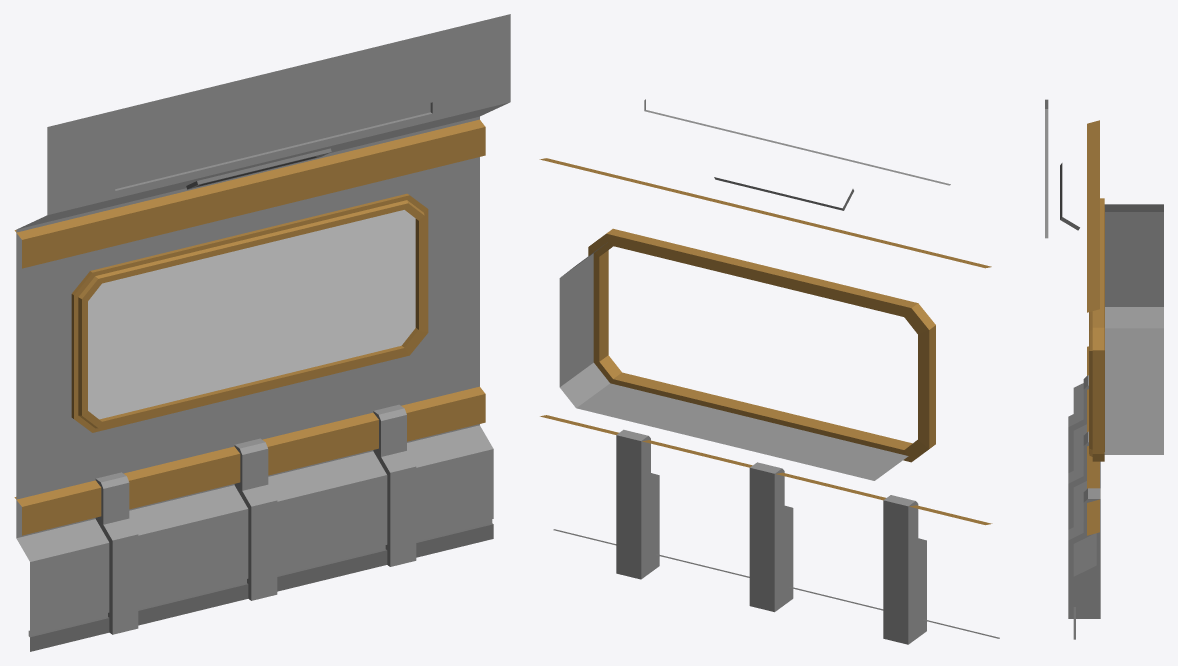
File: quaternius-modular-sci-fi-window-wall-side-a.glb
3 views of the same model, side by side, from view 1: azimuth 30°, elevation 25°; view 2: azimuth 150°, elevation 25°; view 3: azimuth 270°, elevation 25° (orthographic). The views are drawn at different scales.
Parts seen in each view (by area): view 1: Window_Wall_SideA; view 2: Window_Wall_SideA; view 3: Window_Wall_SideA.
Boxes of the visible parts, x1,y1,x2,y2 form: Window_Wall_SideA: (14, 14, 510, 651); Window_Wall_SideA: (539, 99, 999, 644); Window_Wall_SideA: (1045, 99, 1163, 639).
Bounding box in the file's own units: 4 × 4.43 × 1.06.
